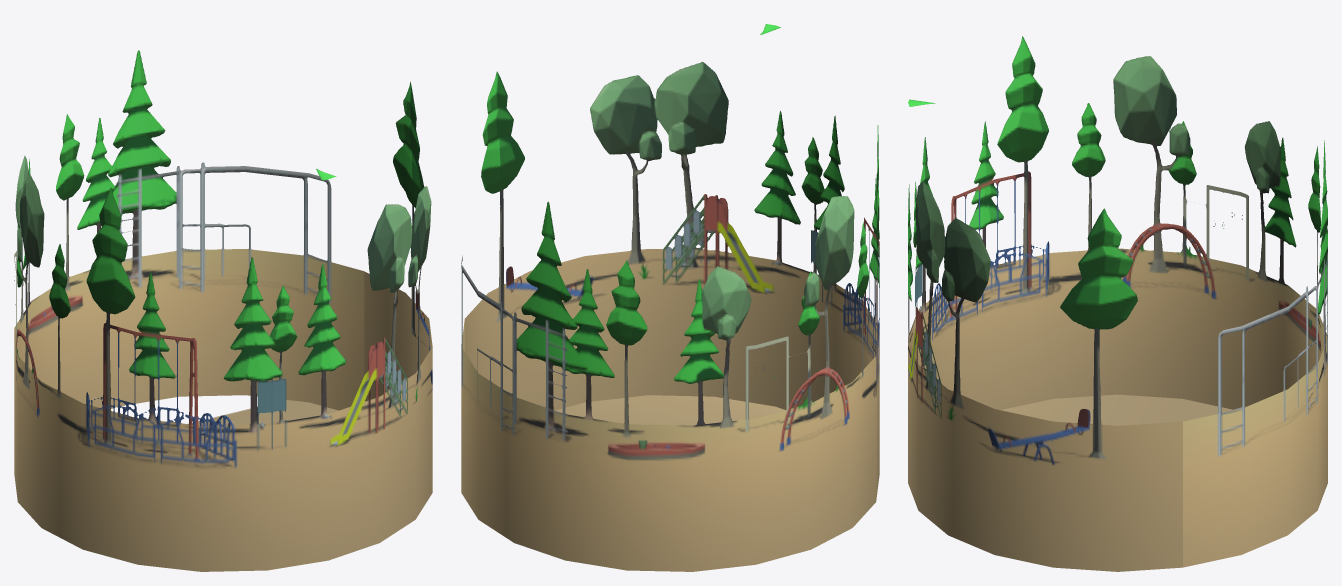
File: Back5.fbx
The picture shows the model from 3 angles, left to right: view 1: azimuth 30°, elevation 25°; view 2: azimuth 150°, elevation 25°; view 3: azimuth 270°, elevation 25°; orthographic projection.
Visible parts, largest first — view 1: pCylinder1; view 2: pCylinder1; view 3: pCylinder1.
Part boxes in pixels (x1,y1,x2,y2): pCylinder1: (14, 50, 432, 571); pCylinder1: (461, 24, 879, 571); pCylinder1: (908, 36, 1327, 571).
Size of the model in its own units: 139 by 139 by 139.
Materials: 1 (1 with a texture image).
